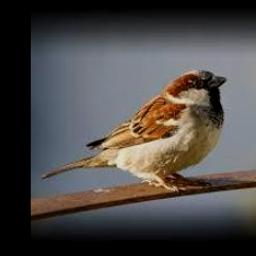Sparrow: (42, 70, 226, 191)
